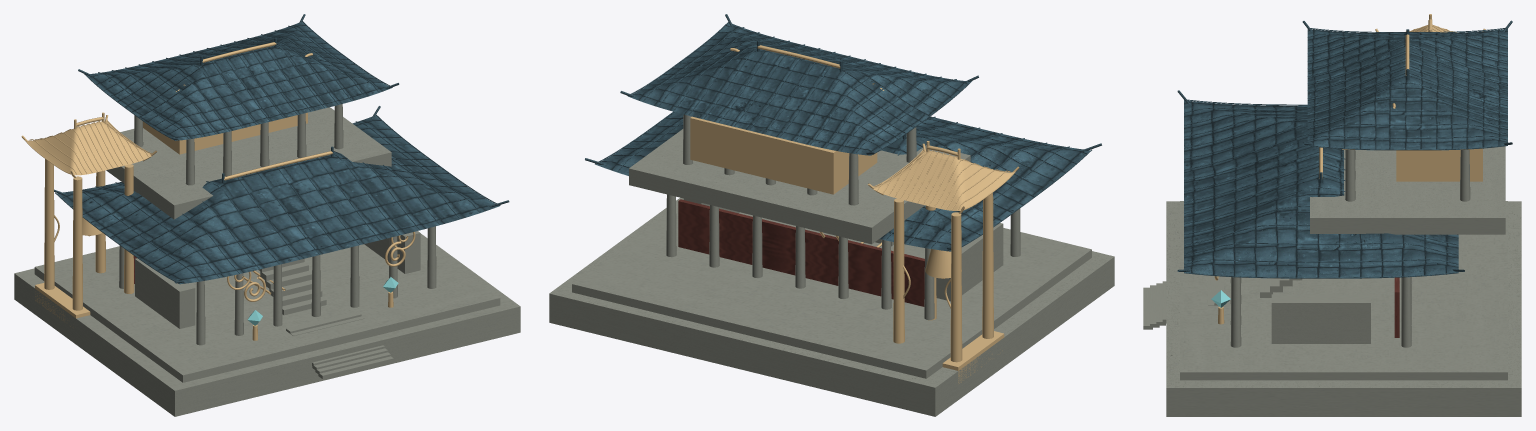
The model's file is QY-GEOGRAPHY-001-R65-region-04-native.glb.
The picture shows the model from 3 angles, left to right: view 1: azimuth 30°, elevation 25°; view 2: azimuth 150°, elevation 25°; view 3: azimuth 270°, elevation 25°; orthographic projection. The views are drawn at different scales.
Parts seen in each view (by area): view 1: 04_LOWER_QINGTILE_DEEP_FLYING_EAVES_CURVED_CELADON_ROOF_REAL, 04_LOWER_WHITE_STONE_PROCESSION_COURT, 04_ELEVATED_BLUE_FIRED_TILE_HIP_ROOF_CURVED_CELADON_ROOF_REA, 04_GREAT_WESTERN_NATIVE_STONE_FOUNDATION, 04_UPPER_STONE_ALTAR_DAIS, 04_BELL_TOWER_SINGLE_DARK_BLUE_FLYING_EAVE_CURVED_CELADON_RO, 04_IVORY_SIDE_ARCADE_BASE.001, 04_UPPER_IVORY_CARVED_BELL_SHRINE, 04_BELL_TOWER_VISIBLE_OCHRE_TIMBER_PIER, 04_BELL_TOWER_VISIBLE_OCHRE_TIMBER_PIER.001, 04_IVORY_SIDE_ARCADE_BASE, 04_BELL_TOWER_STONE_SOCKET (+10 smaller); view 2: 04_LOWER_WHITE_STONE_PROCESSION_COURT, 04_ELEVATED_BLUE_FIRED_TILE_HIP_ROOF_CURVED_CELADON_ROOF_REA, 04_GREAT_WESTERN_NATIVE_STONE_FOUNDATION, 04_UPPER_STONE_ALTAR_DAIS, 04_LOWER_QINGTILE_DEEP_FLYING_EAVES_CURVED_CELADON_ROOF_REAL, 04_WOODEN_U_SHAPE_OPEN_FRONT_WALL, 04_UPPER_IVORY_CARVED_BELL_SHRINE, 04_BELL_TOWER_SINGLE_DARK_BLUE_FLYING_EAVE_CURVED_CELADON_RO, 04_IVORY_SIDE_ARCADE_BASE.001, 04_BELL_TOWER_VISIBLE_OCHRE_TIMBER_PIER.001, 04_BELL_TOWER_VISIBLE_OCHRE_TIMBER_PIER, 04_BELL_TOWER_VISIBLE_OCHRE_TIMBER_PIER.003 (+10 smaller); view 3: 04_LOWER_WHITE_STONE_PROCESSION_COURT, 04_LOWER_QINGTILE_DEEP_FLYING_EAVES_CURVED_CELADON_ROOF_REAL, 04_ELEVATED_BLUE_FIRED_TILE_HIP_ROOF_CURVED_CELADON_ROOF_REA, 04_GREAT_WESTERN_NATIVE_STONE_FOUNDATION, 04_UPPER_STONE_ALTAR_DAIS, 04_IVORY_SIDE_ARCADE_BASE, 04_UPPER_IVORY_CARVED_BELL_SHRINE, 04_LOWER_SHRINE_HOLLOW_PROCESSION_IVORY_COLUMN.007, 04_LOWER_SHRINE_HOLLOW_PROCESSION_IVORY_COLUMN.006, 04_UPPER_OPEN_GALLERY_HOLLOW_PROCESSION_IVORY_COLUMN.007, 04_UPPER_OPEN_GALLERY_HOLLOW_PROCESSION_IVORY_COLUMN.003, 04_LOWER_QINGTILE_DEEP_FLYING_EAVES_TILE_RIB_16 (+3 smaller).
Boxes of the visible parts, x1,y1,x2,y2 form: 04_LOWER_QINGTILE_DEEP_FLYING_EAVES_CURVED_CELADON_ROOF_REAL: (57, 115, 499, 284); 04_LOWER_WHITE_STONE_PROCESSION_COURT: (34, 240, 500, 382); 04_ELEVATED_BLUE_FIRED_TILE_HIP_ROOF_CURVED_CELADON_ROOF_REA: (86, 22, 392, 140); 04_GREAT_WESTERN_NATIVE_STONE_FOUNDATION: (14, 233, 520, 416); 04_UPPER_STONE_ALTAR_DAIS: (106, 107, 391, 219); 04_BELL_TOWER_SINGLE_DARK_BLUE_FLYING_EAVE_CURVED_CELADON_RO: (27, 121, 151, 175); 04_IVORY_SIDE_ARCADE_BASE.001: (135, 258, 195, 328); 04_UPPER_IVORY_CARVED_BELL_SHRINE: (143, 112, 307, 154); 04_BELL_TOWER_VISIBLE_OCHRE_TIMBER_PIER: (72, 176, 82, 310); 04_BELL_TOWER_VISIBLE_OCHRE_TIMBER_PIER.001: (44, 159, 54, 289); 04_IVORY_SIDE_ARCADE_BASE: (364, 231, 420, 273); 04_BELL_TOWER_STONE_SOCKET: (35, 283, 90, 326); 04_LOWER_WHITE_STONE_PROCESSION_COURT: (572, 206, 1091, 378); 04_ELEVATED_BLUE_FIRED_TILE_HIP_ROOF_CURVED_CELADON_ROOF_REA: (628, 23, 969, 155); 04_GREAT_WESTERN_NATIVE_STONE_FOUNDATION: (549, 197, 1114, 416); 04_UPPER_STONE_ALTAR_DAIS: (629, 129, 970, 244); 04_LOWER_QINGTILE_DEEP_FLYING_EAVES_CURVED_CELADON_ROOF_REAL: (595, 112, 1090, 251); 04_WOODEN_U_SHAPE_OPEN_FRONT_WALL: (678, 199, 924, 306); 04_UPPER_IVORY_CARVED_BELL_SHRINE: (690, 116, 877, 194); 04_BELL_TOWER_SINGLE_DARK_BLUE_FLYING_EAVE_CURVED_CELADON_RO: (872, 150, 1013, 210); 04_IVORY_SIDE_ARCADE_BASE.001: (936, 223, 1003, 301); 04_BELL_TOWER_VISIBLE_OCHRE_TIMBER_PIER.001: (950, 212, 962, 362); 04_BELL_TOWER_VISIBLE_OCHRE_TIMBER_PIER: (982, 193, 993, 338); 04_BELL_TOWER_VISIBLE_OCHRE_TIMBER_PIER.003: (893, 198, 904, 343); 04_LOWER_WHITE_STONE_PROCESSION_COURT: (1180, 201, 1507, 380); 04_LOWER_QINGTILE_DEEP_FLYING_EAVES_CURVED_CELADON_ROOF_REAL: (1184, 100, 1458, 278); 04_ELEVATED_BLUE_FIRED_TILE_HIP_ROOF_CURVED_CELADON_ROOF_REA: (1307, 29, 1507, 150); 04_GREAT_WESTERN_NATIVE_STONE_FOUNDATION: (1166, 201, 1521, 416); 04_UPPER_STONE_ALTAR_DAIS: (1310, 146, 1505, 234); 04_IVORY_SIDE_ARCADE_BASE: (1271, 294, 1370, 343); 04_UPPER_IVORY_CARVED_BELL_SHRINE: (1396, 148, 1482, 181); 04_LOWER_SHRINE_HOLLOW_PROCESSION_IVORY_COLUMN.007: (1401, 277, 1411, 347); 04_LOWER_SHRINE_HOLLOW_PROCESSION_IVORY_COLUMN.006: (1230, 277, 1241, 347); 04_UPPER_OPEN_GALLERY_HOLLOW_PROCESSION_IVORY_COLUMN.007: (1345, 150, 1355, 201); 04_UPPER_OPEN_GALLERY_HOLLOW_PROCESSION_IVORY_COLUMN.003: (1460, 150, 1470, 201); 04_LOWER_QINGTILE_DEEP_FLYING_EAVES_TILE_RIB_16: (1184, 272, 1458, 278).
Size of the model in its own units: 99.69 by 66.4 by 83.06.
5 materials, 3 textured.
